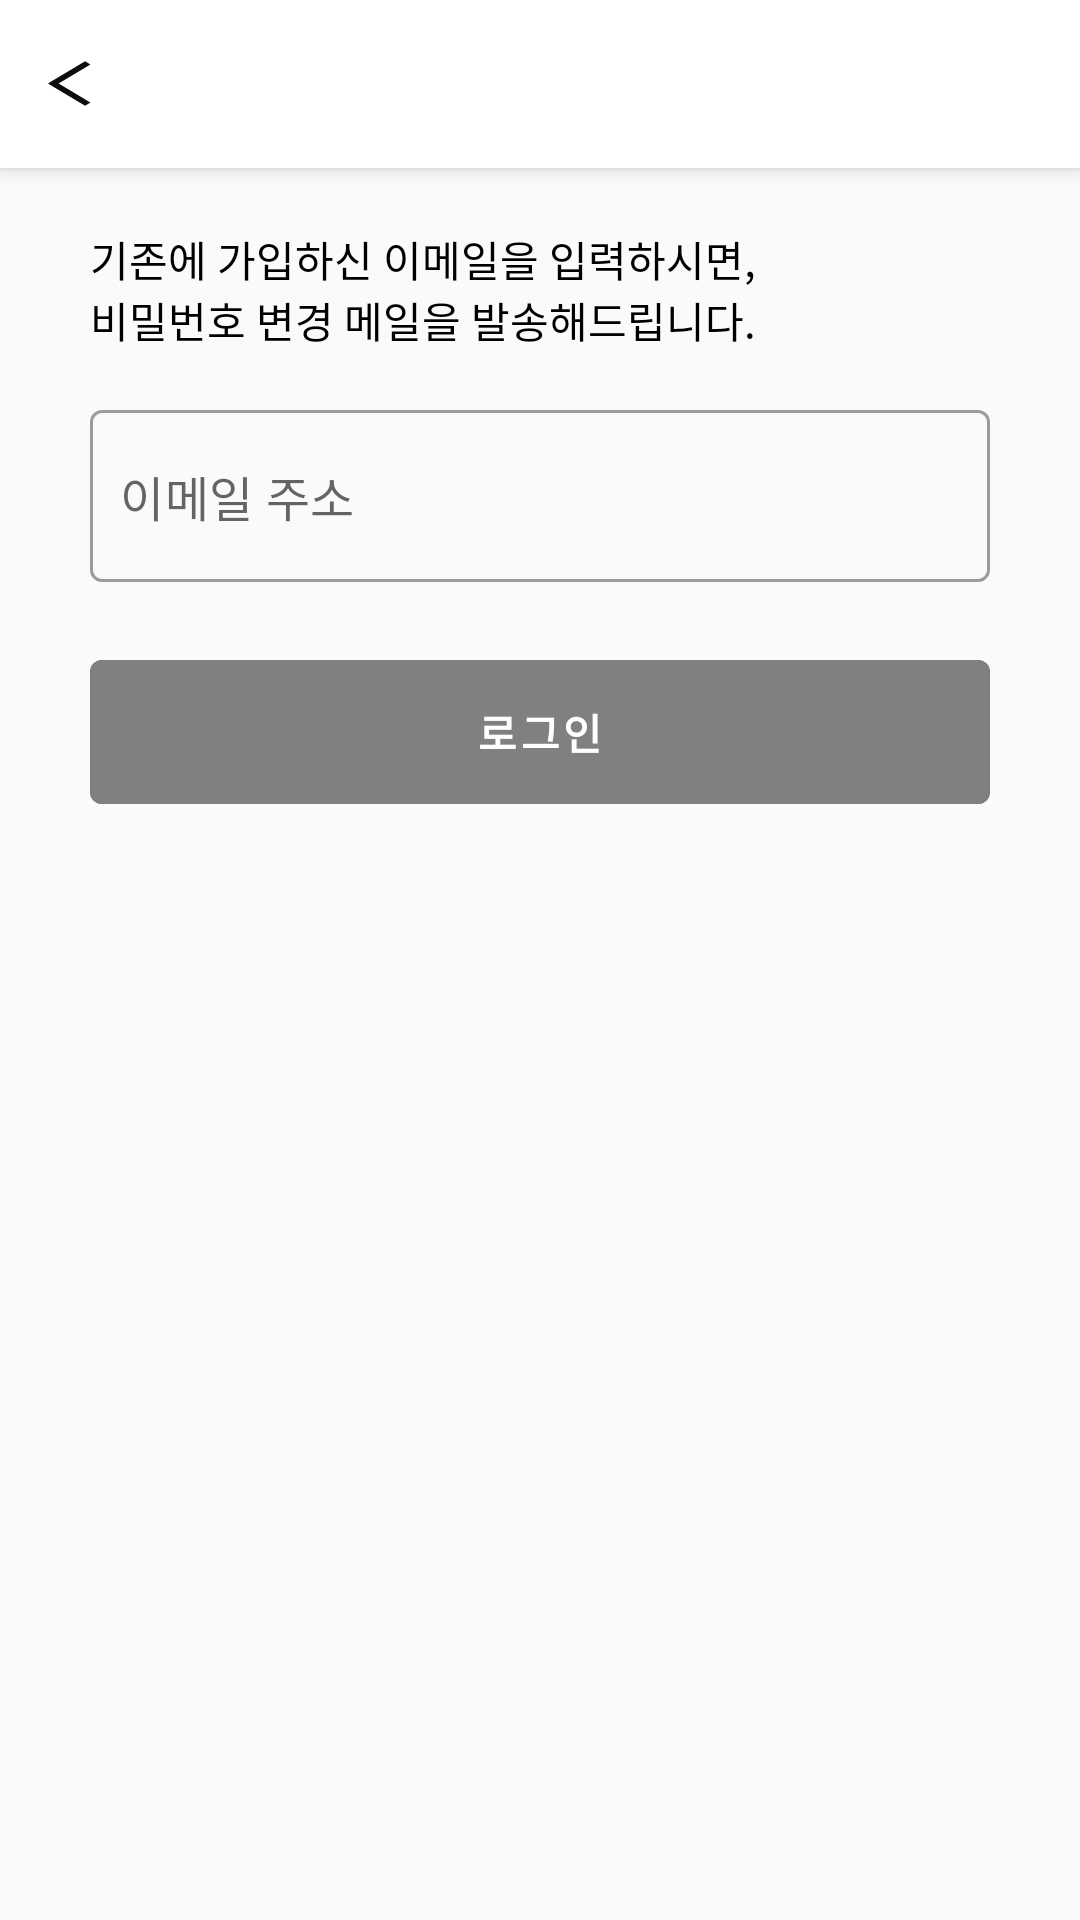

Icons on this 1080 × 1920 Android screen, each with the point to tap as [x,y]:
back: [69,83]
